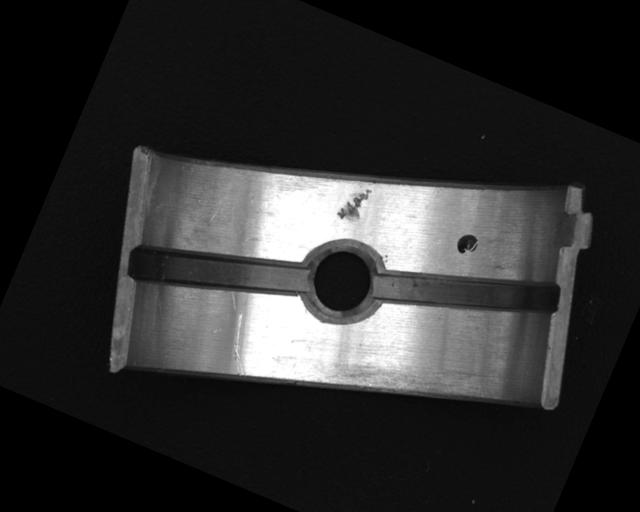blot: (453, 229, 480, 257)
bruise: (334, 180, 373, 226)
gap: (368, 219, 566, 366), (124, 204, 313, 341)
hole: (290, 234, 394, 334)
nick: (217, 313, 265, 379)
scratch: (317, 316, 493, 444)
